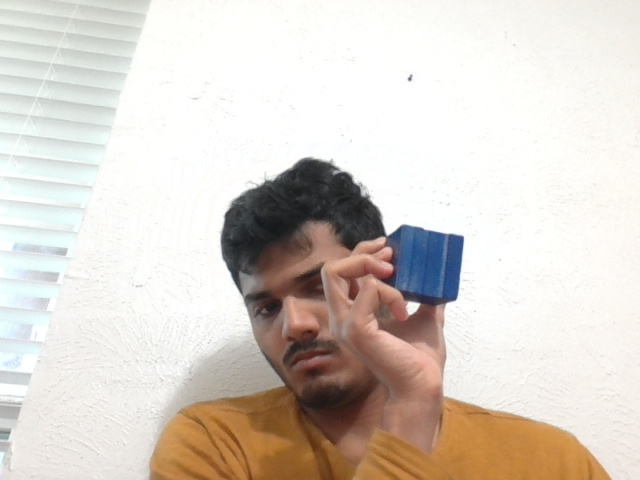BlueBlock: (384, 222, 466, 302)
